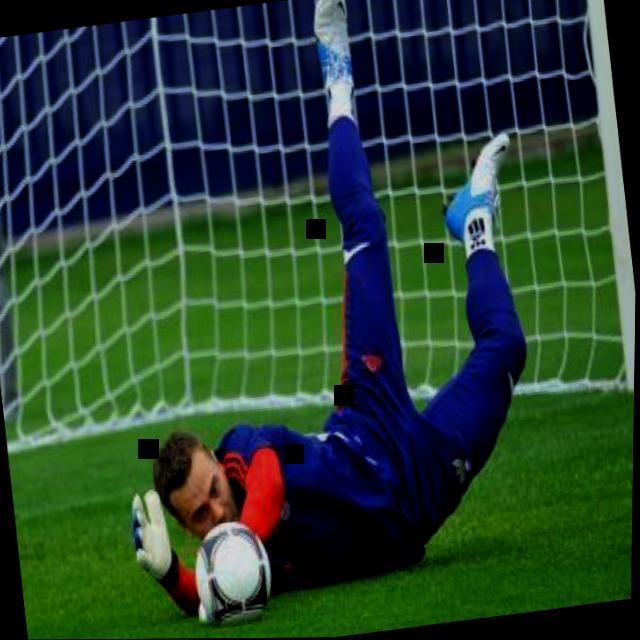Fall-Detected: (56, 0, 601, 640)
